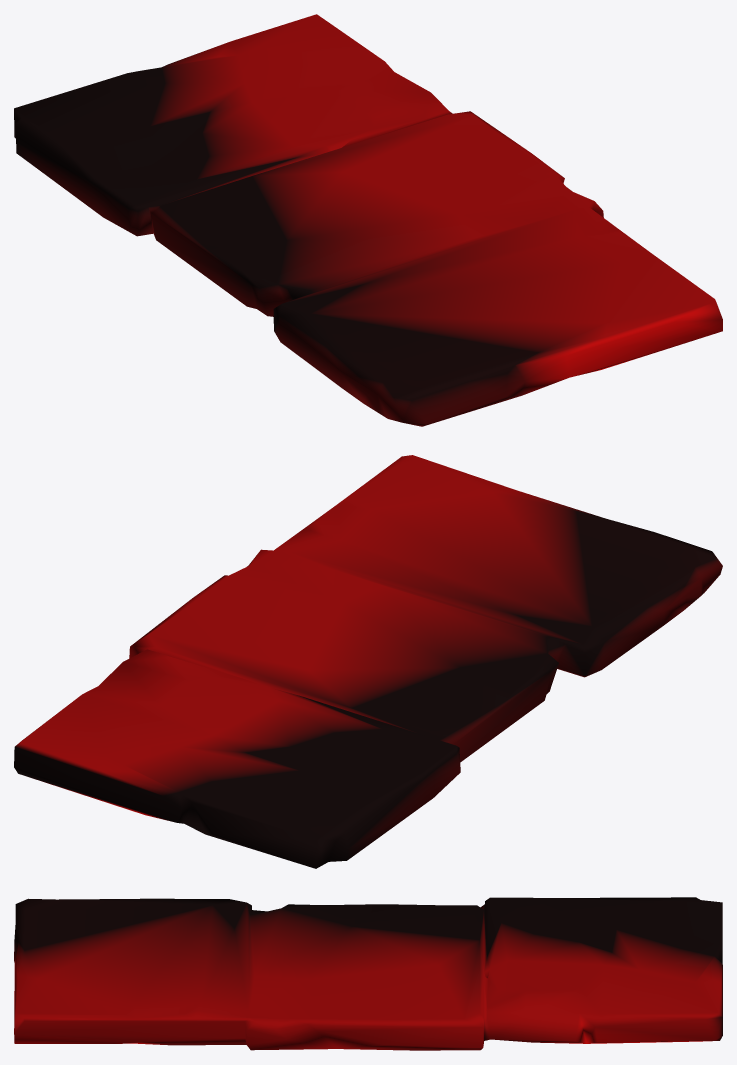
The model's file is SM_RoofTile_Flat_Row_Half.fbx.
3 renders of one model, top to bottom at view 1: azimuth 30°, elevation 25°; view 2: azimuth 150°, elevation 25°; view 3: azimuth 270°, elevation 25°, orthographic. The views are drawn at different scales.
Parts seen in each view (by area): view 1: SM_RoofTile_Flat_Row_Half_LOD0; view 2: SM_RoofTile_Flat_Row_Half_LOD0; view 3: SM_RoofTile_Flat_Row_Half_LOD0.
Boxes of the visible parts, box(x1,y1,x2,y2) form: SM_RoofTile_Flat_Row_Half_LOD0: box(14, 14, 722, 426); SM_RoofTile_Flat_Row_Half_LOD0: box(14, 455, 722, 868); SM_RoofTile_Flat_Row_Half_LOD0: box(14, 897, 722, 1050).
Size of the model in its own units: 48.88 by 99.45 by 7.69.
